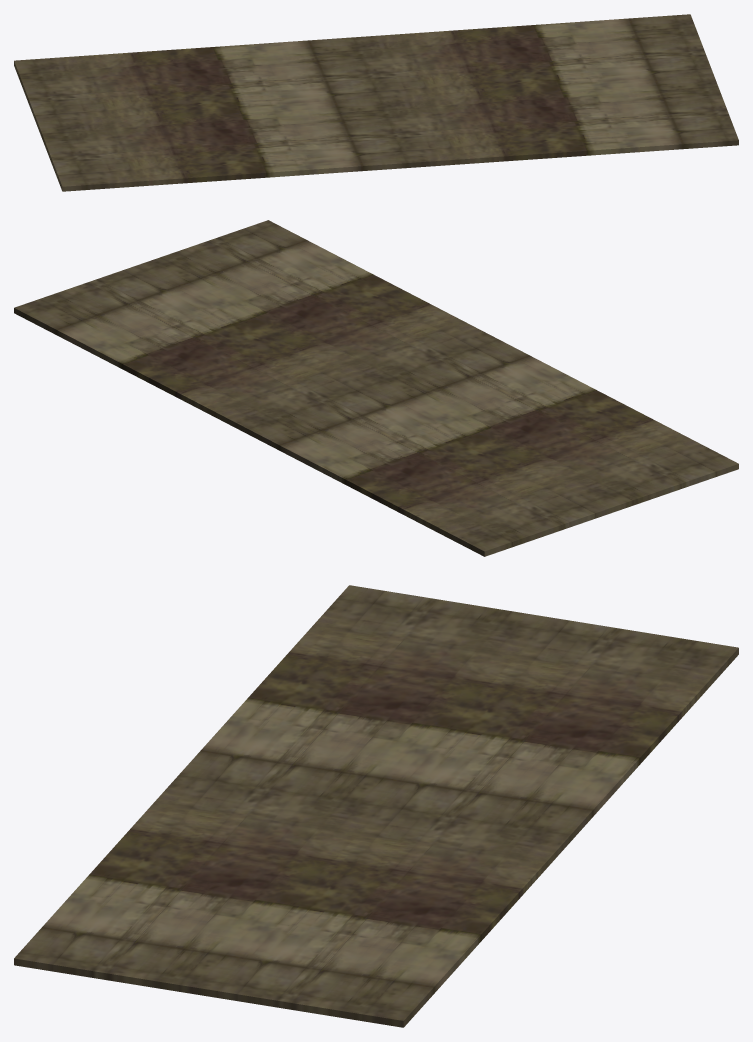
Rendered from H1_Floor.gltf.
3 views of the same model, one above another, from view 1: azimuth 30°, elevation 25°; view 2: azimuth 150°, elevation 25°; view 3: azimuth 270°, elevation 25° (orthographic). The views are drawn at different scales.
Visible parts, largest first — view 1: H1_Floor; view 2: H1_Floor; view 3: H1_Floor.
Part boxes in pixels (x1,y1,x2,y2): H1_Floor: (14,14,738,191); H1_Floor: (14,220,738,556); H1_Floor: (14,585,738,1027).
Bounding box in the file's own units: 102 × 0.7482 × 71.52.
Materials: 1 (1 with a texture image).
